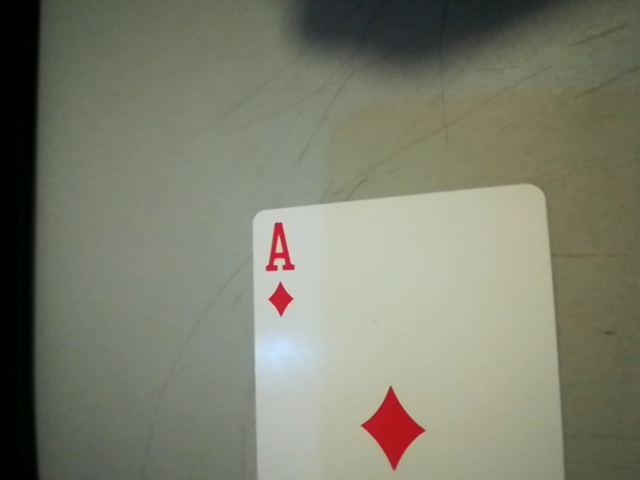fk a: (252, 215, 307, 323)
